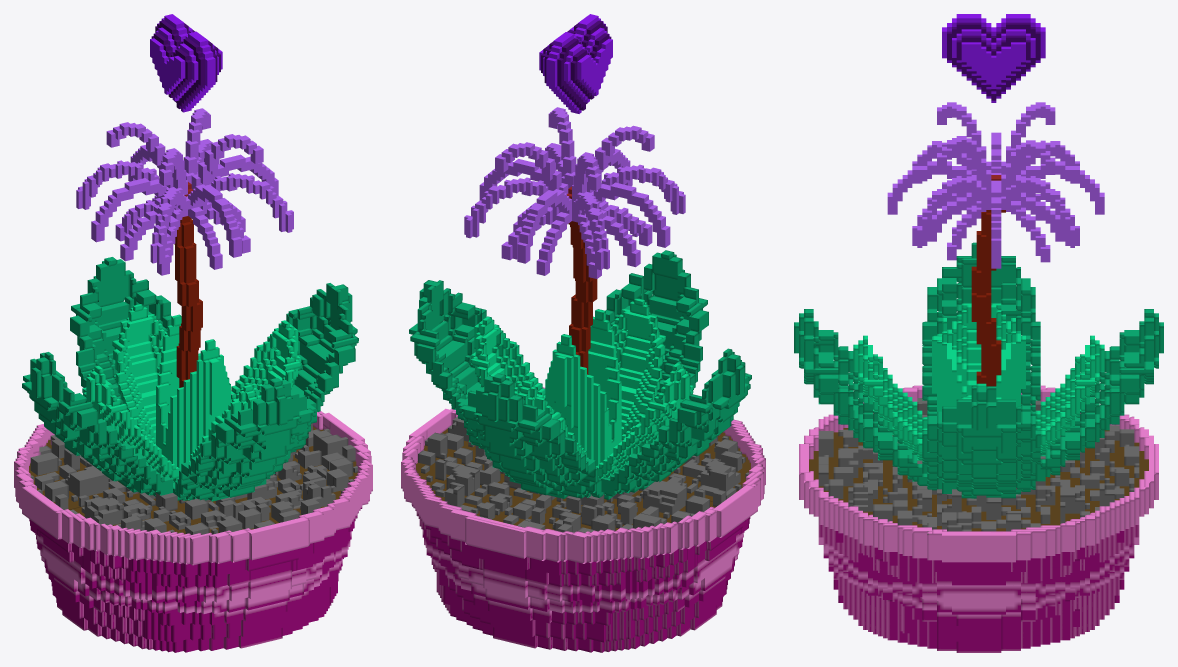
File: AloeVeraAnim.dae
3 views of the same model, side by side, from view 1: azimuth 30°, elevation 25°; view 2: azimuth 150°, elevation 25°; view 3: azimuth 270°, elevation 25° (orthographic). The views are drawn at different scales.
Visible parts, largest first — view 1: Node (2)-local, Node (1)-local, Node-local, Node (4)-local, Node (9)-local, Node (3)-local, Node (5)-local, Node (7)-local, Node (8)-local; view 2: Node (2)-local, Node (1)-local, Node-local, Node (4)-local, Node (9)-local, Node (3)-local, Node (5)-local, Node (7)-local, Node (8)-local; view 3: Node (2)-local, Node (1)-local, Node-local, Node (4)-local, Node (9)-local, Node (3)-local, Node (5)-local, Node (7)-local, Node (8)-local.
Boxes of the visible parts, x1=… form: Node (2)-local: x1=14, y1=394, x2=372, y2=652; Node (1)-local: x1=22, y1=257, x2=358, y2=501; Node-local: x1=82, y1=304, x2=301, y2=482; Node (4)-local: x1=76, y1=139, x2=293, y2=264; Node (9)-local: x1=150, y1=14, x2=222, y2=112; Node (3)-local: x1=106, y1=108, x2=263, y2=194; Node (5)-local: x1=115, y1=195, x2=250, y2=275; Node (7)-local: x1=175, y1=242, x2=202, y2=332; Node (8)-local: x1=176, y1=323, x2=200, y2=387; Node (2)-local: x1=401, y1=387, x2=765, y2=652; Node (1)-local: x1=409, y1=250, x2=751, y2=499; Node-local: x1=470, y1=298, x2=693, y2=478; Node (4)-local: x1=464, y1=143, x2=685, y2=270; Node (9)-local: x1=539, y1=14, x2=612, y2=113; Node (3)-local: x1=495, y1=107, x2=654, y2=199; Node (5)-local: x1=501, y1=200, x2=652, y2=278; Node (7)-local: x1=571, y1=247, x2=597, y2=328; Node (8)-local: x1=569, y1=324, x2=590, y2=374; Node (2)-local: x1=799, y1=385, x2=1158, y2=652; Node (1)-local: x1=794, y1=242, x2=1163, y2=498; Node-local: x1=853, y1=303, x2=1104, y2=460; Node (4)-local: x1=887, y1=132, x2=1104, y2=258; Node (9)-local: x1=942, y1=14, x2=1045, y2=102; Node (3)-local: x1=937, y1=102, x2=1055, y2=191; Node (5)-local: x1=927, y1=192, x2=1065, y2=268; Node (7)-local: x1=971, y1=231, x2=996, y2=323; Node (8)-local: x1=976, y1=318, x2=1001, y2=386.
Size of the model in its own units: 76 by 129 by 75.
Materials: 10 (10 with a texture image).
